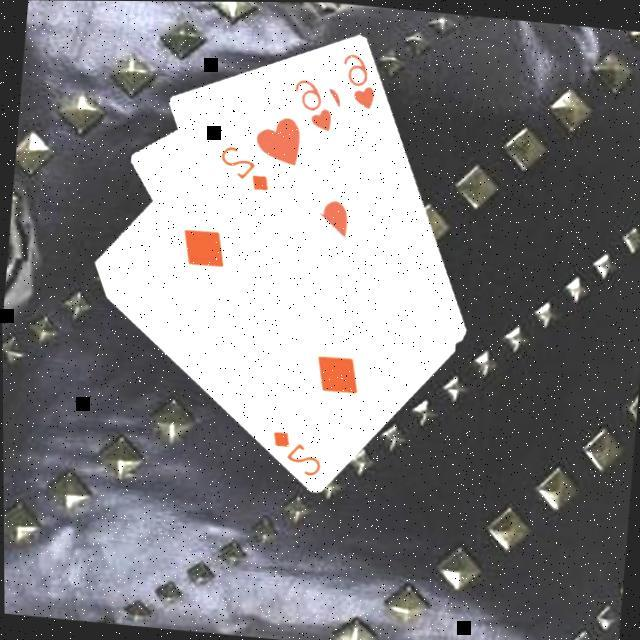2D: (212, 138, 273, 193), (262, 424, 324, 478)
6H: (284, 73, 336, 134), (333, 46, 380, 110)
